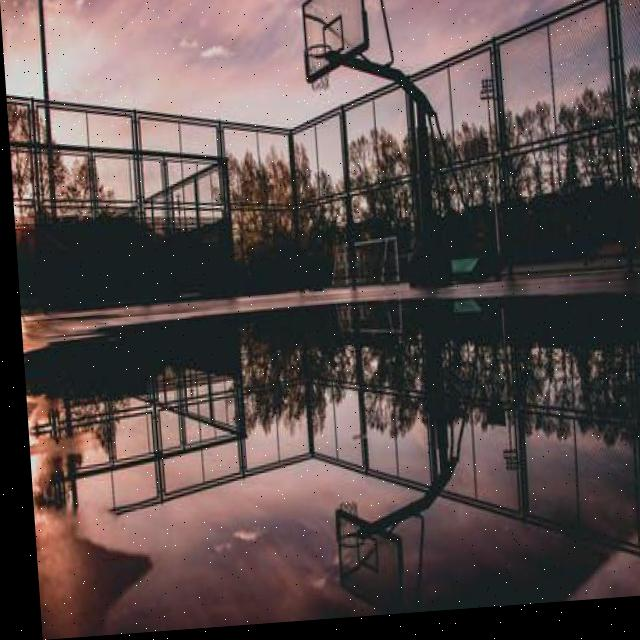hoop: (299, 40, 348, 90)
